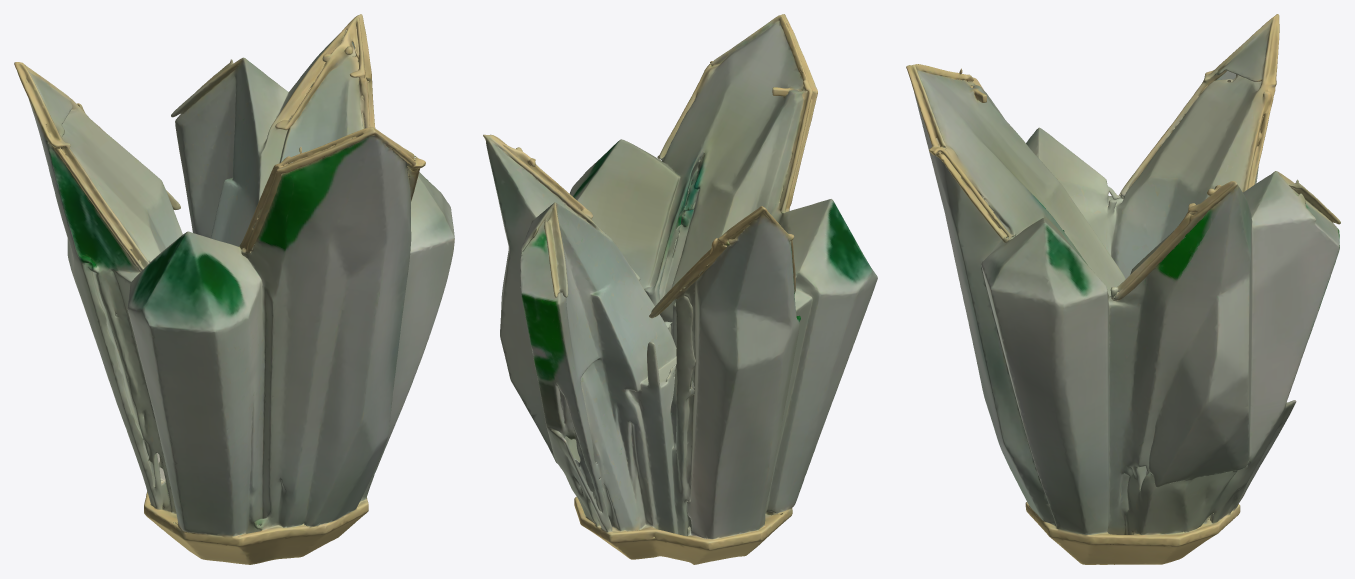
File: cerbelera.glb
3 renders of one model, left to right at view 1: azimuth 30°, elevation 25°; view 2: azimuth 150°, elevation 25°; view 3: azimuth 270°, elevation 25°, orthographic. The views are drawn at different scales.
Visible parts, largest first — view 1: world; view 2: world; view 3: world.
Boxes of the visible parts, x1=… form: world: x1=14, y1=14, x2=454, y2=564; world: x1=483, y1=14, x2=877, y2=564; world: x1=906, y1=14, x2=1340, y2=564.
Bounding box in the file's own units: 0.7021 × 1 × 0.8304.
1 material, 1 textured.
